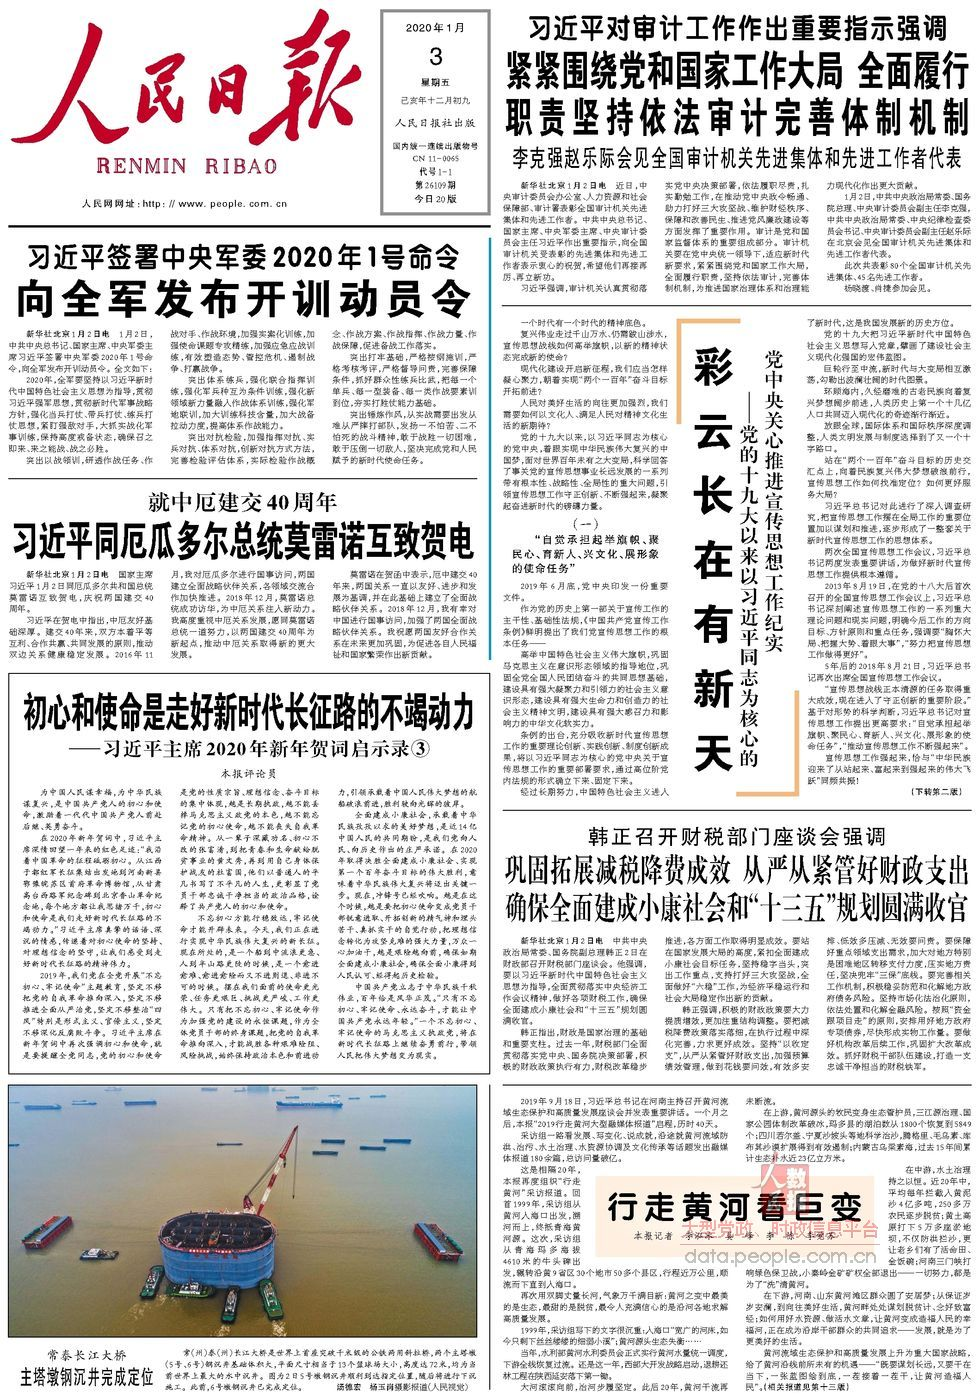pic: (3, 1079, 481, 1344)
